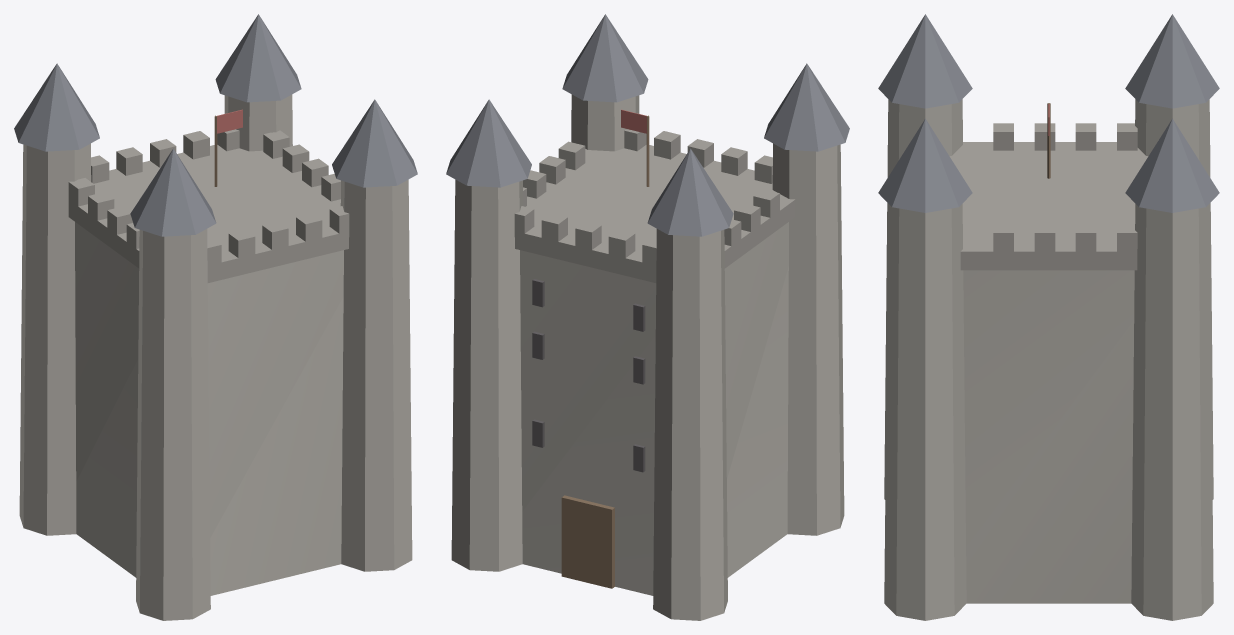
3 renders of one model, left to right at view 1: azimuth 30°, elevation 25°; view 2: azimuth 150°, elevation 25°; view 3: azimuth 270°, elevation 25°, orthographic. The views are drawn at different scales.
Parts seen in each view (by area): view 1: architecture.castle_keep; view 2: architecture.castle_keep; view 3: architecture.castle_keep.
Boxes of the visible parts, x1,y1,x2,y2 form: architecture.castle_keep: (14,14,417,620); architecture.castle_keep: (446,14,849,620); architecture.castle_keep: (878,14,1219,620).
Bounding box in the file's own units: 16.6 × 26 × 16.6.
